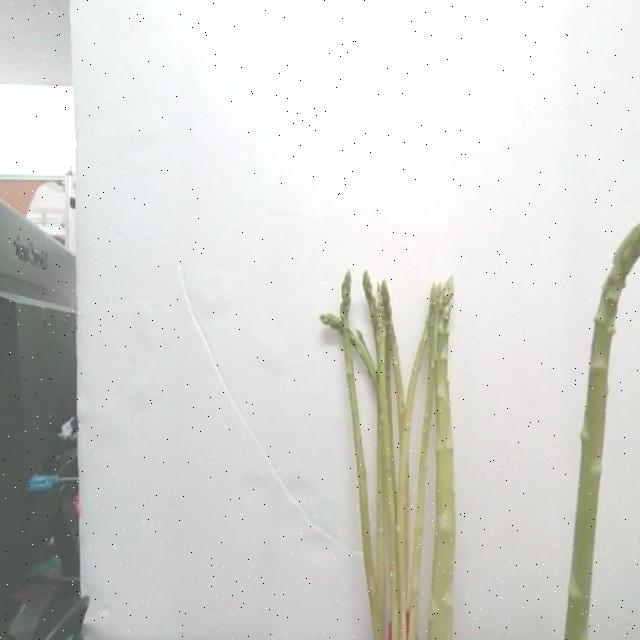aspargus: (564, 224, 640, 640)
